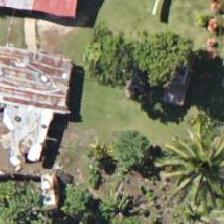coconut_tree: (152, 117, 223, 207)
